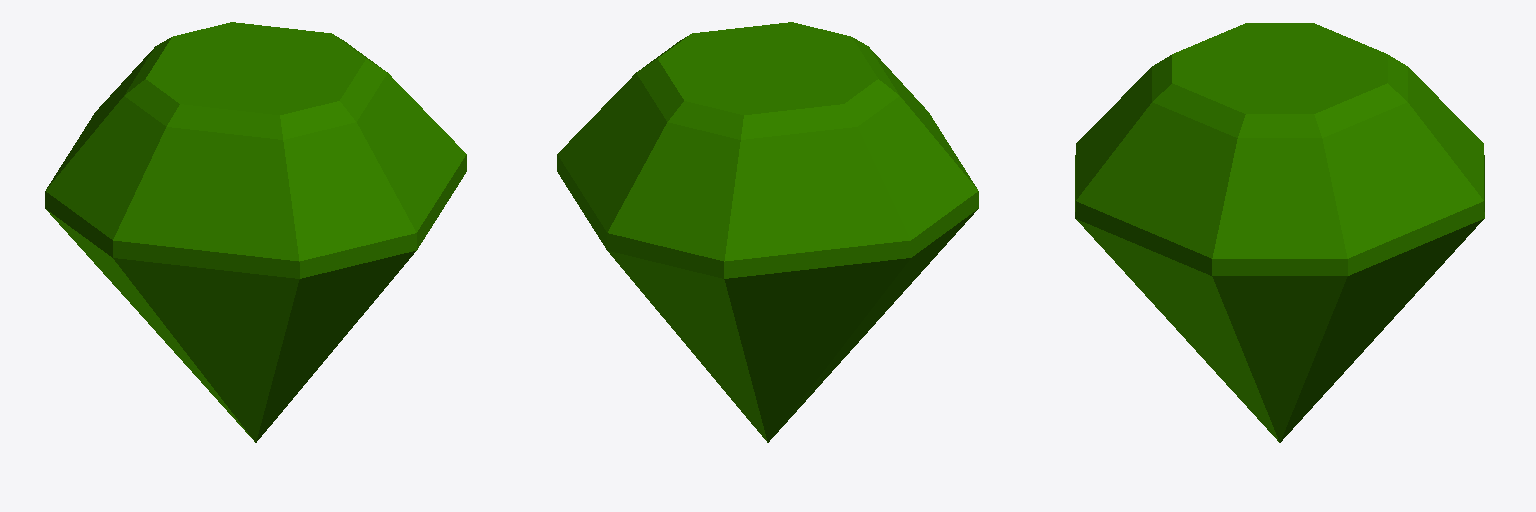
The model's file is Gem_Green.obj.
The picture shows the model from 3 angles: view 1: azimuth 30°, elevation 25°; view 2: azimuth 150°, elevation 25°; view 3: azimuth 270°, elevation 25°; orthographic projection.
Visible parts, largest first — view 1: Gem_Green_Cube.281; view 2: Gem_Green_Cube.281; view 3: Gem_Green_Cube.281.
Boxes of the visible parts, box(x1,y1,x2,y2) form: Gem_Green_Cube.281: box(45, 22, 466, 442); Gem_Green_Cube.281: box(557, 22, 978, 442); Gem_Green_Cube.281: box(1075, 23, 1484, 442).
Bounding box in the file's own units: 1.5 × 1.51 × 1.5.